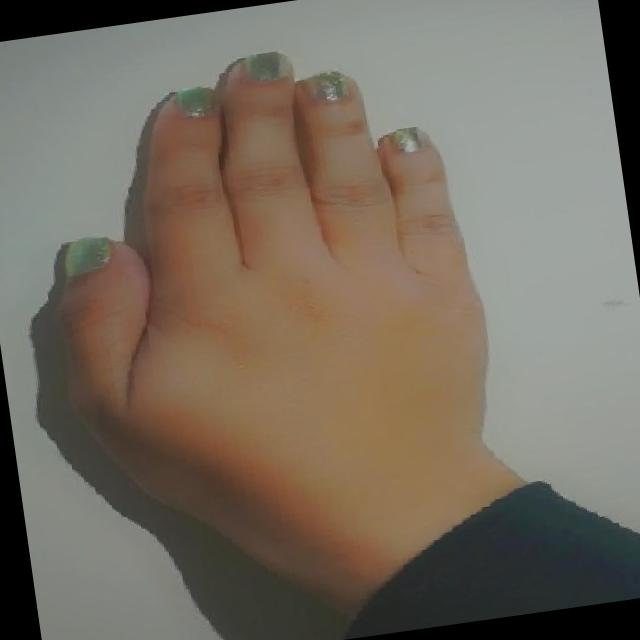Nail: (54, 237, 111, 285), (302, 72, 348, 102), (247, 51, 285, 82), (178, 87, 216, 116), (389, 127, 422, 154)
